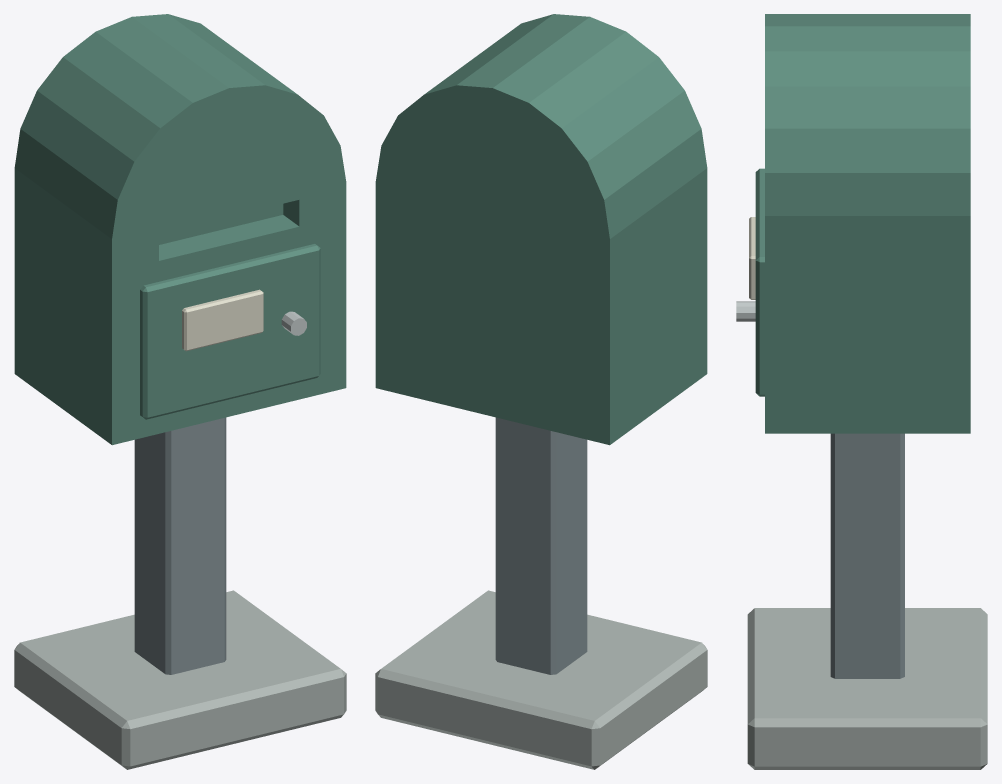
3 renders of one model, left to right at view 1: azimuth 30°, elevation 25°; view 2: azimuth 150°, elevation 25°; view 3: azimuth 270°, elevation 25°, orthographic. The views are drawn at different scales.
Parts seen in each view (by area): view 1: postal-letterbox-01; view 2: postal-letterbox-01; view 3: postal-letterbox-01.
Boxes of the visible parts, x1,y1,x2,y2 form: postal-letterbox-01: [14, 14, 346, 769]; postal-letterbox-01: [375, 14, 707, 769]; postal-letterbox-01: [736, 14, 987, 769].
Bounding box in the file's own units: 0.5 × 1.33 × 0.44.
